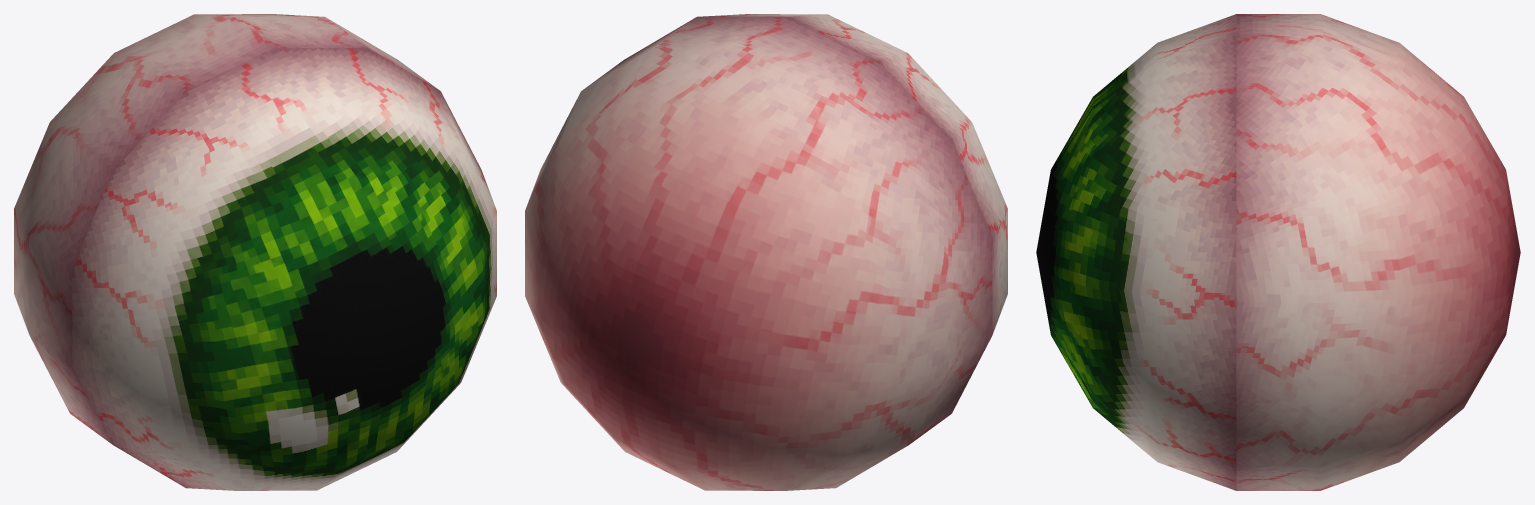
Rendered from eye.glb.
3 renders of one model, left to right at view 1: azimuth 30°, elevation 25°; view 2: azimuth 150°, elevation 25°; view 3: azimuth 270°, elevation 25°, orthographic.
Visible parts, largest first — view 1: Sphere; view 2: Sphere; view 3: Sphere.
Boxes of the visible parts, x1,y1,x2,y2 form: Sphere: (14, 14, 496, 490); Sphere: (525, 14, 1007, 490); Sphere: (1036, 14, 1520, 490).
Bounding box in the file's own units: 1.92 × 1.97 × 2.
Materials: 2 (2 with a texture image).
